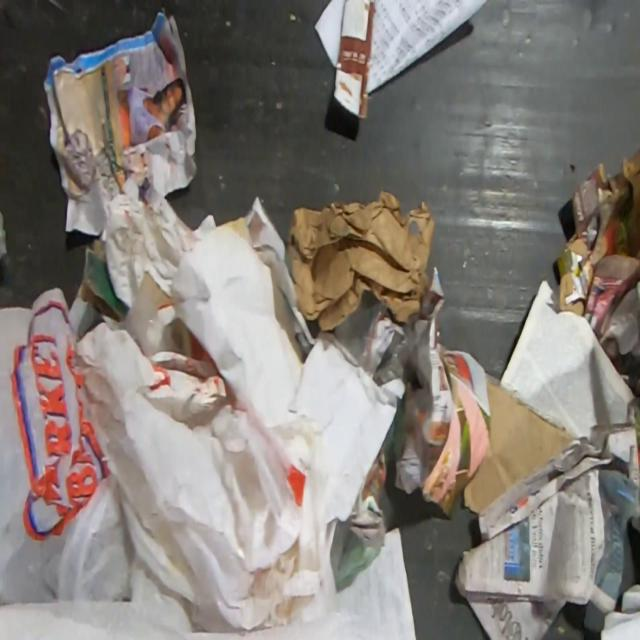cardboard: (462, 379, 575, 516), (555, 144, 640, 319), (332, 0, 378, 121)
soft_plastic: (76, 321, 343, 632), (0, 284, 196, 640), (334, 302, 418, 385)
